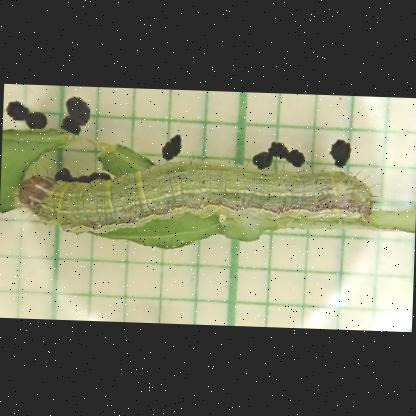Fall Armyworm Larvae: (10, 142, 387, 252)
